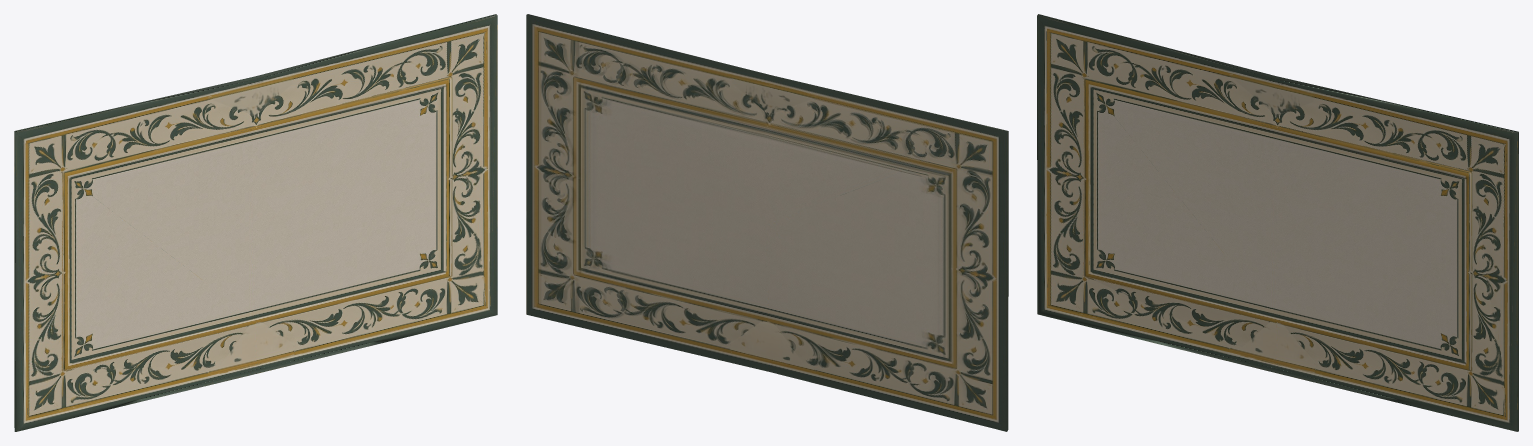
File: item14.glb
3 views of the same model, side by side, from view 1: azimuth 30°, elevation 25°; view 2: azimuth 150°, elevation 25°; view 3: azimuth 330°, elevation 25° (orthographic).
Visible parts, largest first — view 1: Mesh_0; view 2: Mesh_0; view 3: Mesh_0.
Boxes of the visible parts, x1=… form: Mesh_0: x1=14, y1=14, x2=497, y2=431; Mesh_0: x1=526, y1=14, x2=1008, y2=431; Mesh_0: x1=1037, y1=14, x2=1518, y2=431.
Bounding box in the file's own units: 1 × 0.5967 × 0.00671.
Materials: 1 (1 with a texture image).
